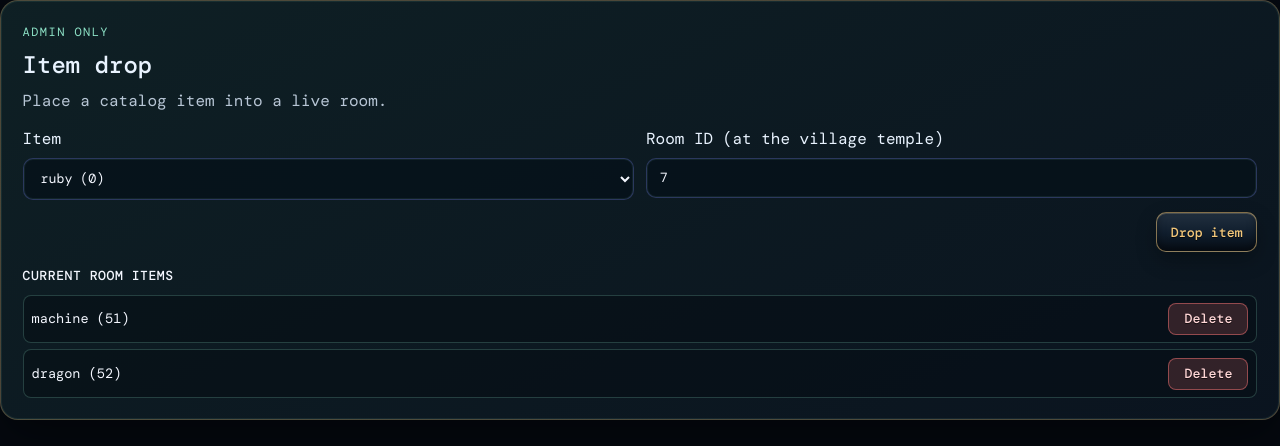
it: AdminDropItemPanel › defaults to the session room and drops the selected item
The image size is (1280, 446).
Expected: the number field labelled "Room ID (at the village temple)" holds "7", [646,158,1257,198]
Expected: the button with aria-label "delete machine from room slot 1" reads "Delete", [1168,303,1248,335]
Step 1. Select "emerald (1)" in the dropdown labelled "Item" → (328, 179), box [23,158,634,200]
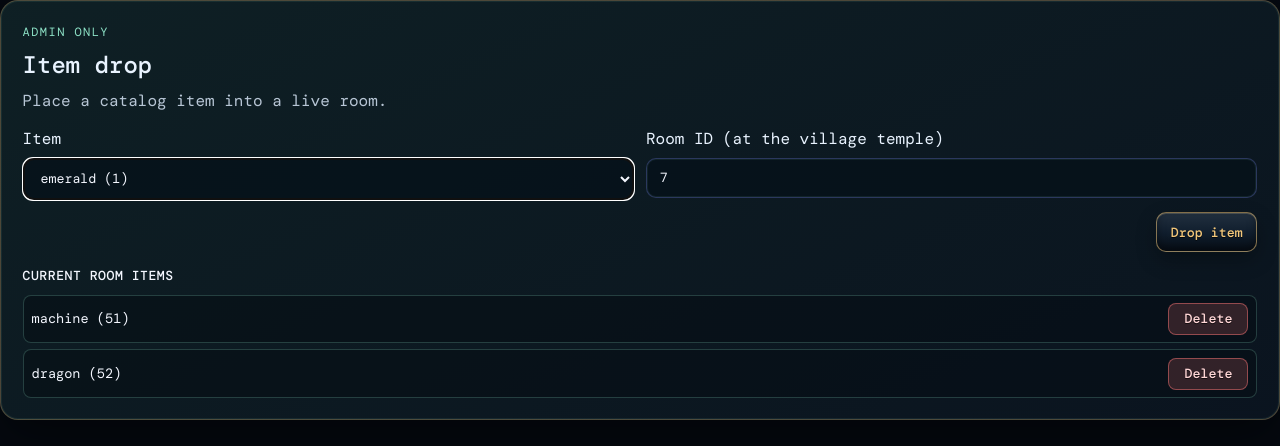
Step 2. Click the button "Drop item" → (1207, 232), box [1156,212,1257,252]
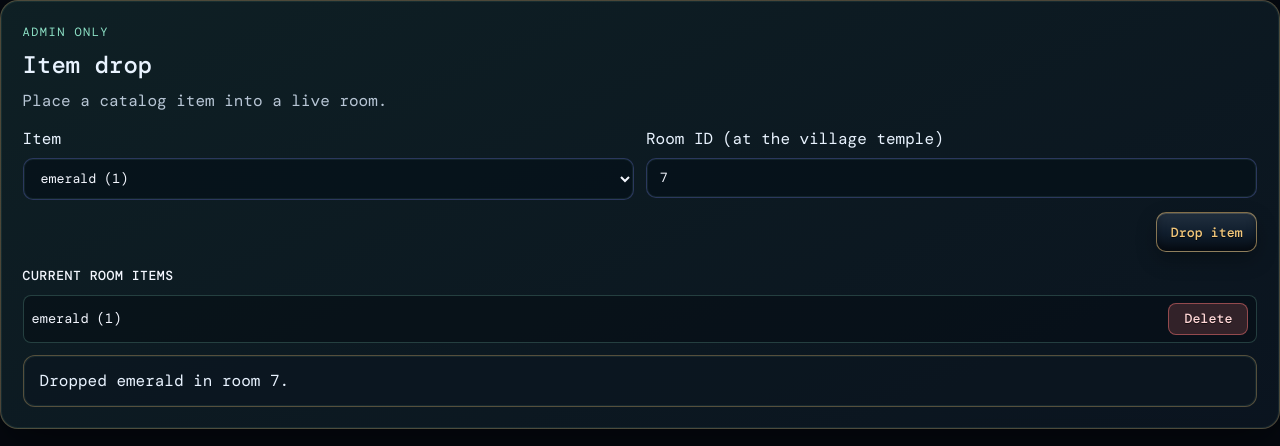
Now the text "Dropped emerald in room 7." is shown, box [23,355,1257,407]
